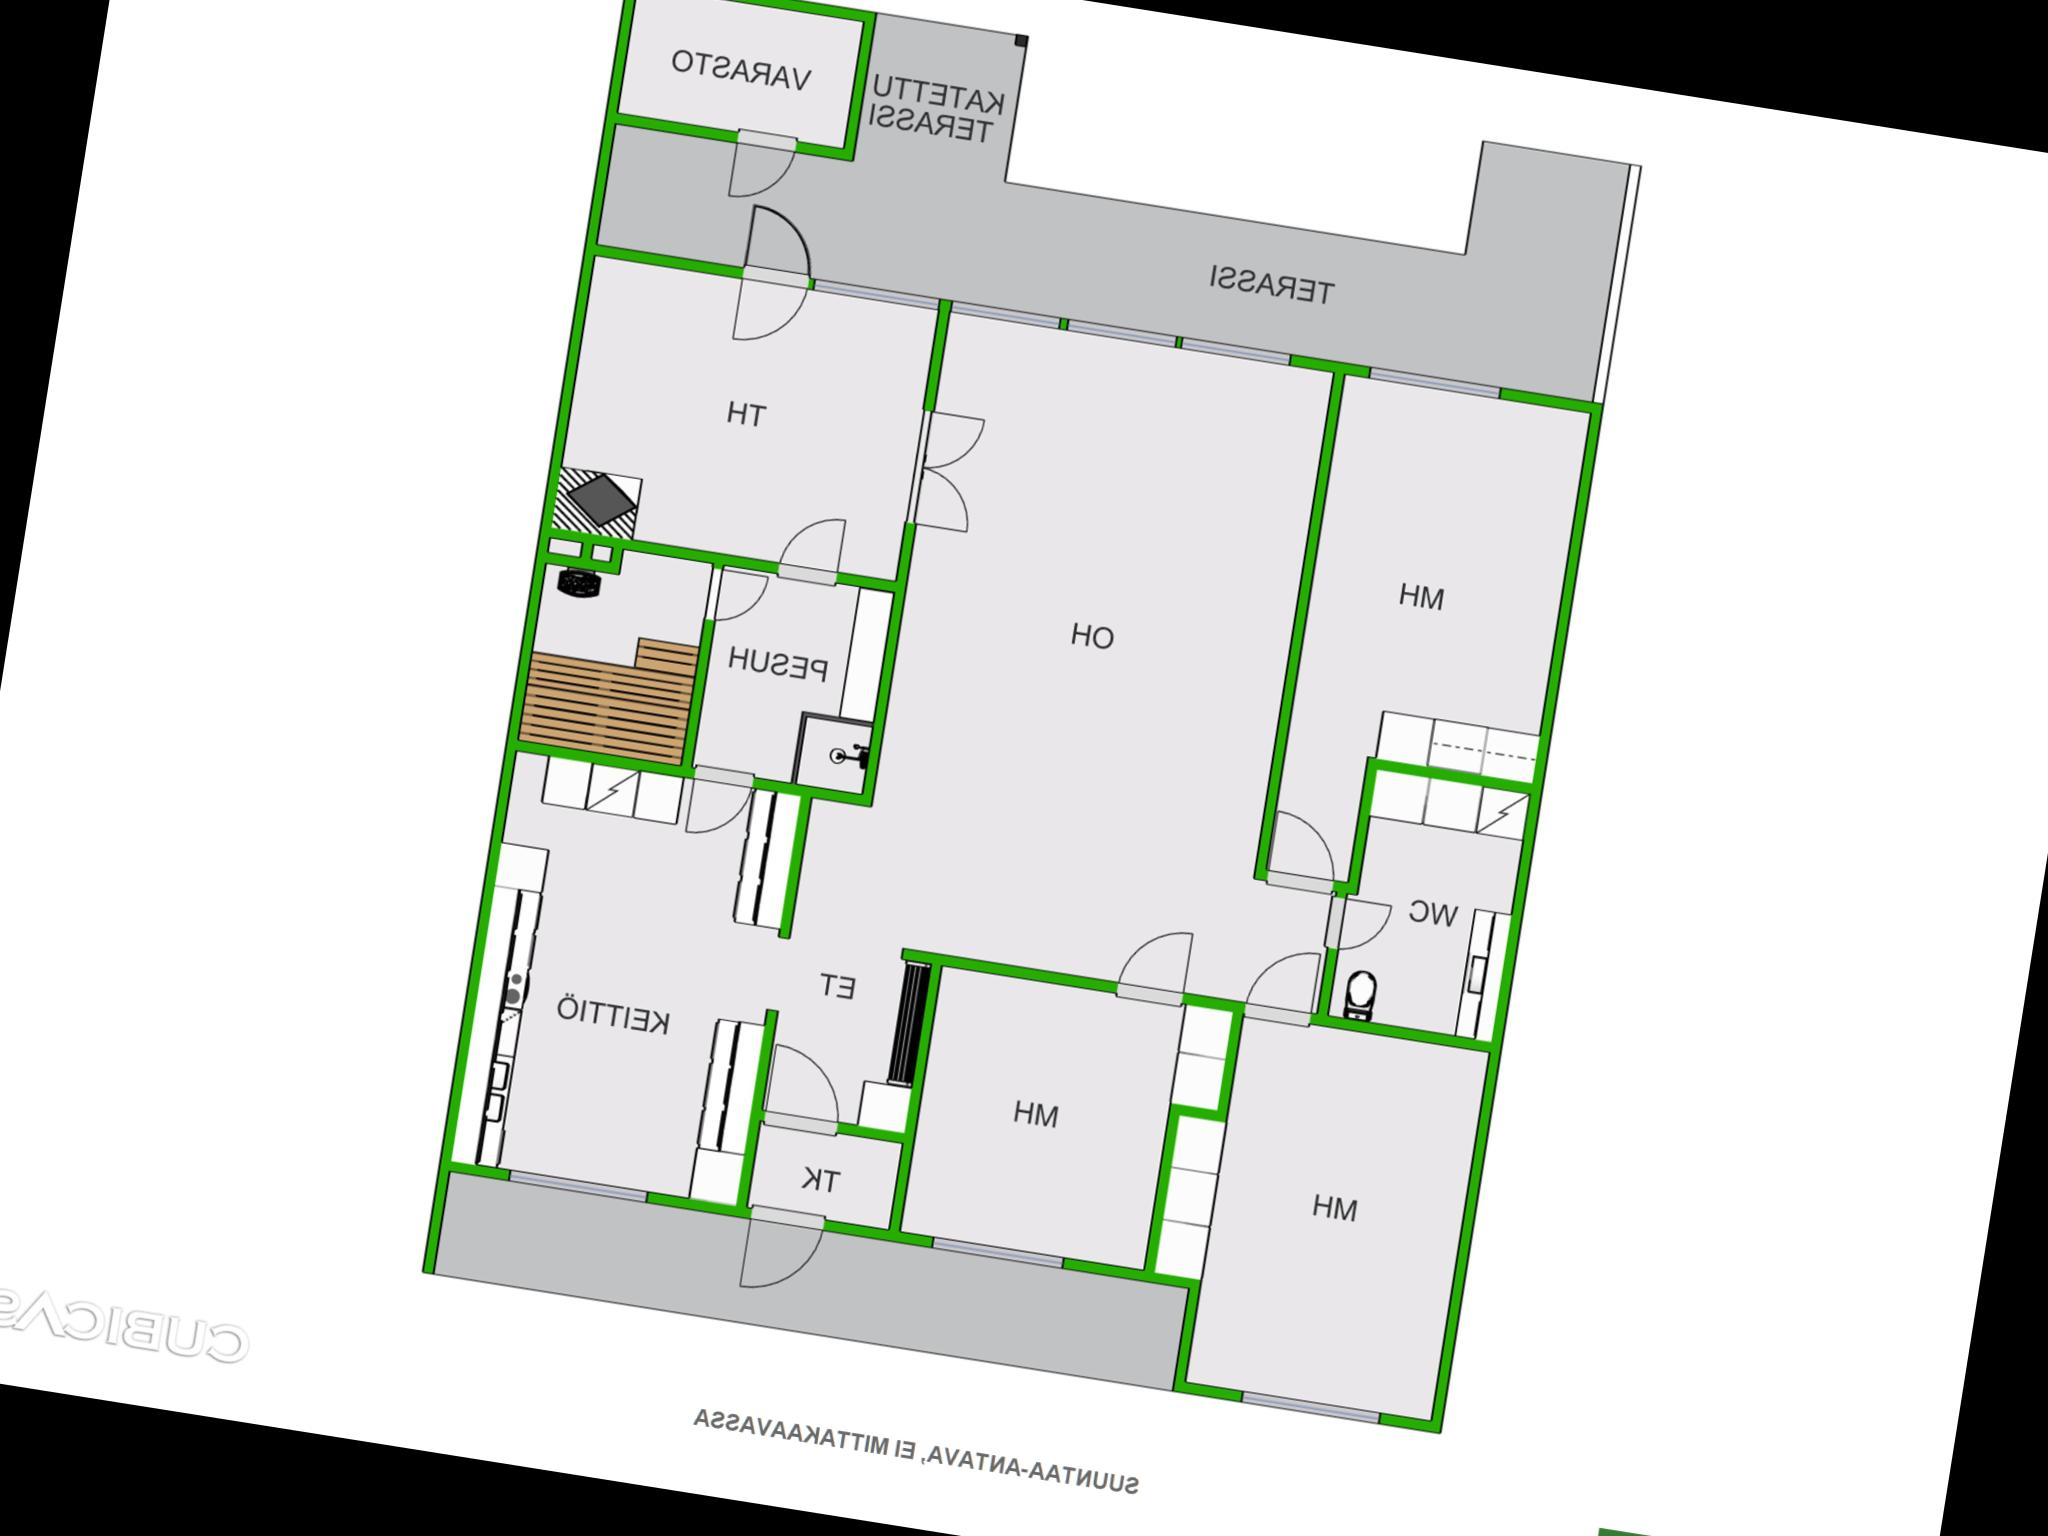door: (727, 1194, 832, 1305), (756, 1033, 863, 1134), (716, 260, 814, 360), (732, 198, 827, 297), (1113, 920, 1203, 1010), (1259, 800, 1347, 894), (1245, 937, 1330, 1028), (672, 760, 756, 845), (1316, 887, 1400, 971), (898, 461, 982, 544), (719, 124, 801, 205), (772, 507, 851, 591), (903, 403, 993, 476), (692, 560, 769, 628)
window: (1229, 1379, 1392, 1442), (489, 1162, 668, 1218), (916, 1226, 1080, 1281), (1355, 358, 1521, 410), (1171, 331, 1314, 381), (805, 273, 951, 318), (939, 292, 1072, 340), (1058, 315, 1180, 358)
